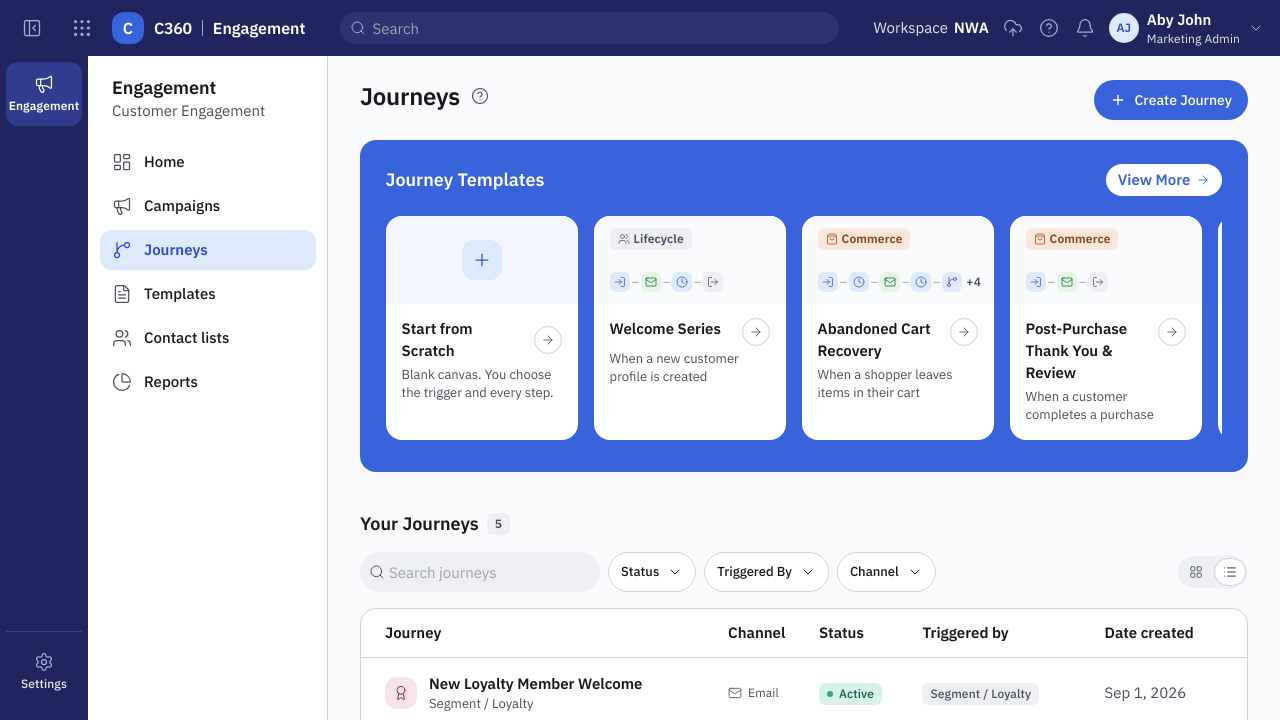
Test: Use This Template pre-fills Setup, creates from the starter, keeps its steps and opens Build
Click the button with aria-label "Abandoned Cart Recovery, C360 Starter".
click(898, 328)  # box [802,216,994,440]
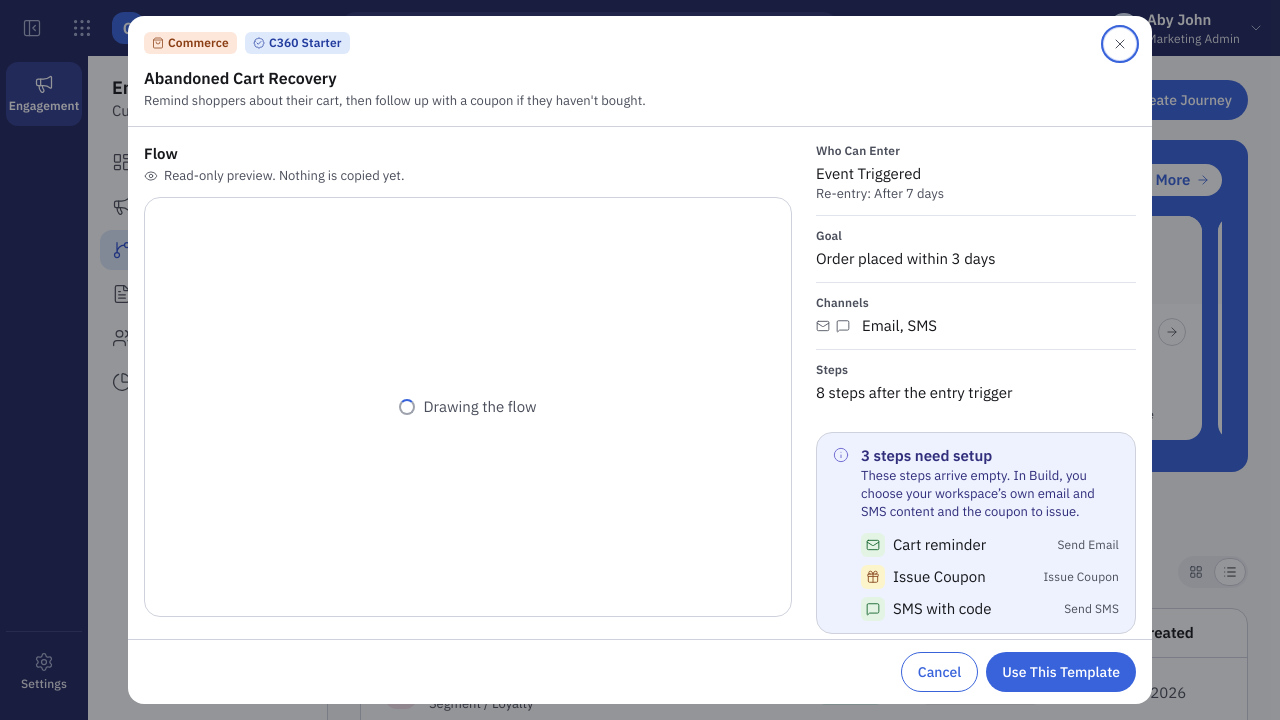
Click the button "Use This Template".
click(1061, 672)  # box [986,652,1136,692]
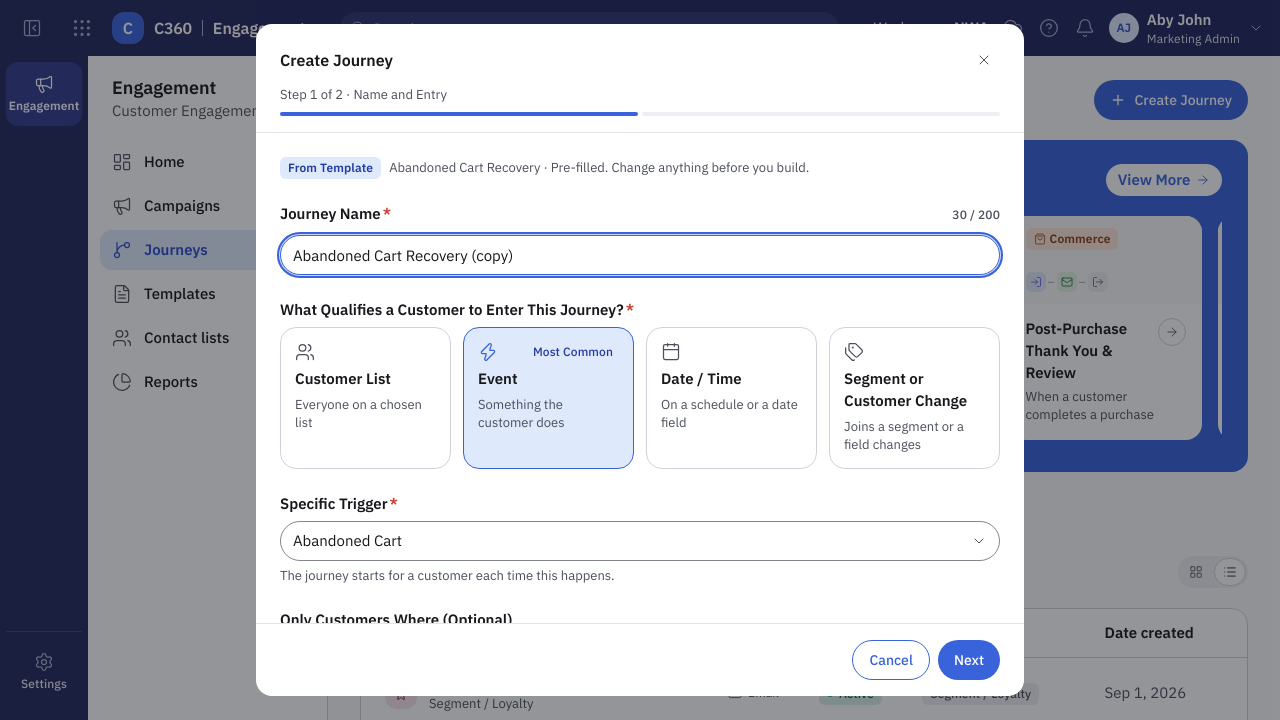
expect the text "From Template" is shown: met, box [280,157,381,179]
expect the text "Abandoned Cart Recovery · Pre-filled. Change anything before you build." is shown: met, box [280,157,809,179]
expect the field labelled "Journey Name*" holds "Abandoned Cart Recovery (copy)": met, box [280,235,1000,275]
Click the button "Next".
click(969, 660)  # box [938,640,1000,680]
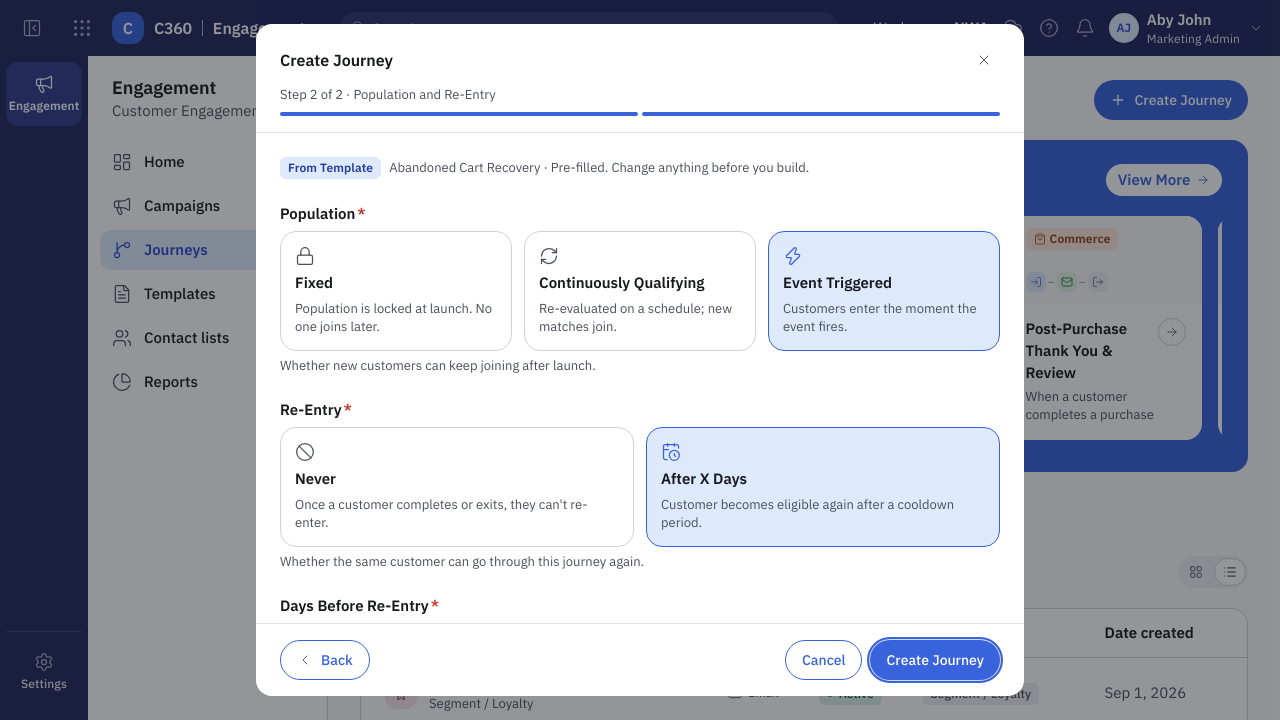
Click the button "Create Journey".
click(935, 660)  # box [870,640,1000,680]
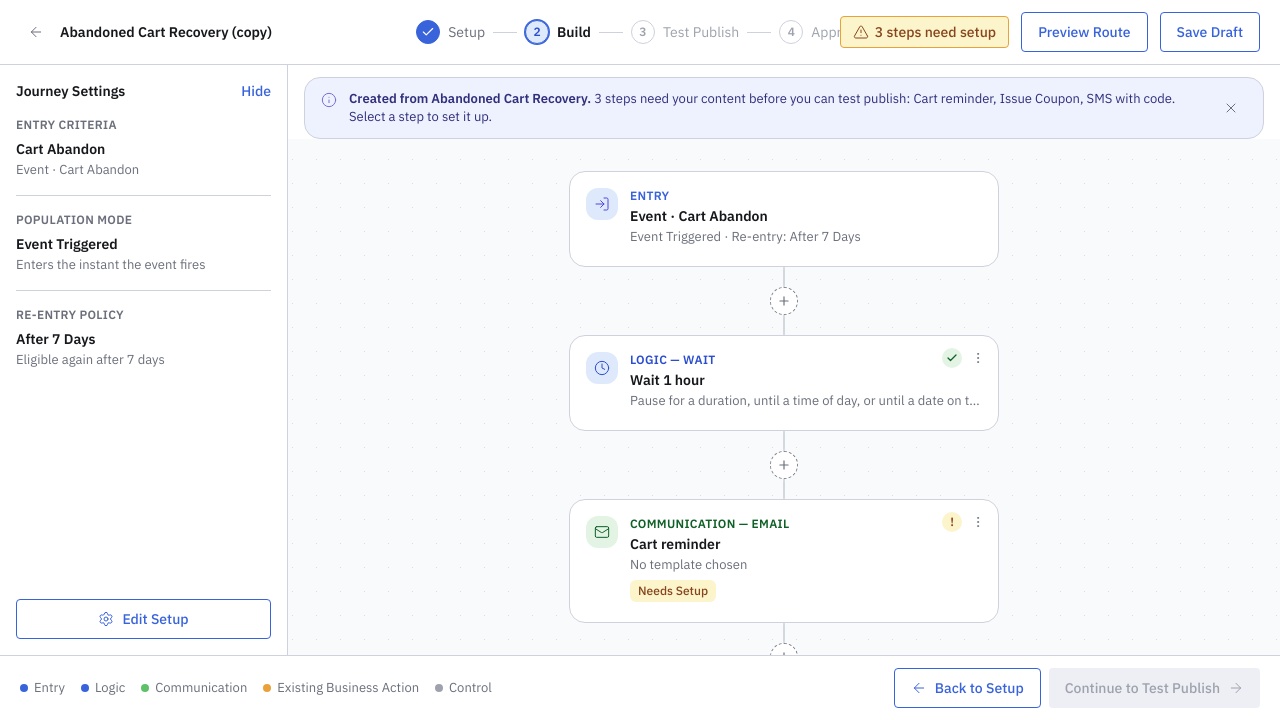
expect the text "steps need your content before you can test publish" shows "Created from Abandoned Cart Recovery. 3 steps need your content before you can test publish: Cart reminder, Issue Coupon, SMS with code. Select a step to set it": met, box [349,90,1203,126]
